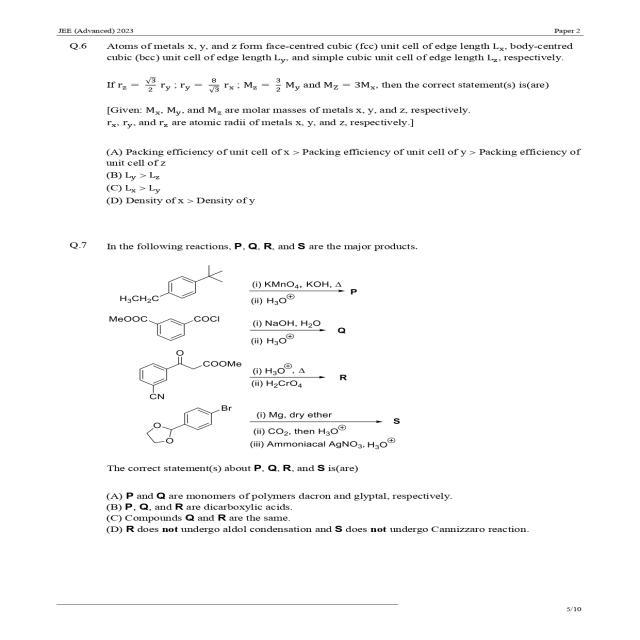Answer_Block: (54, 481, 592, 558), (54, 144, 592, 218)
Question_Answer_Block: (54, 234, 592, 558), (54, 40, 592, 218)
Question_Block: (54, 234, 592, 481), (54, 40, 592, 141)
Question_Paper_Area: (54, 40, 592, 593)
